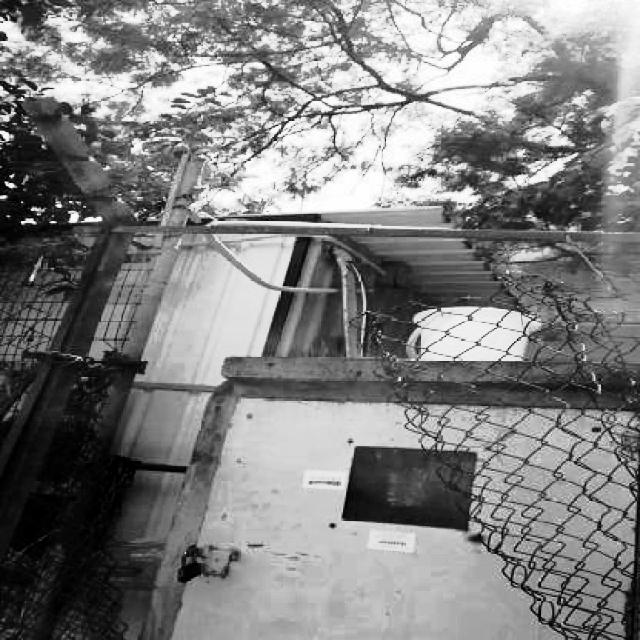anomaly-fence: (17, 135, 570, 640)
